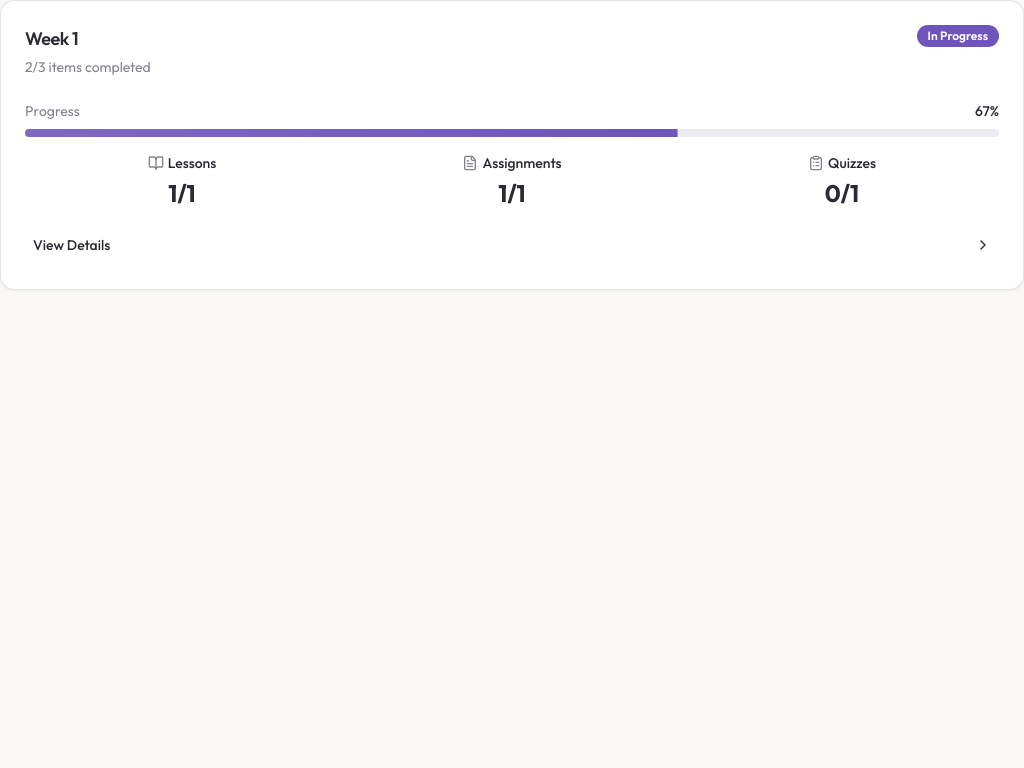
Test case: ModuleProgressCard (T-10 r2) › details: reads only eligible items and assessment rows by content_item_id; assessment status is separate from the checkmark
Step 1. Click the button "View Details" → (72,245), box [25,225,999,265]
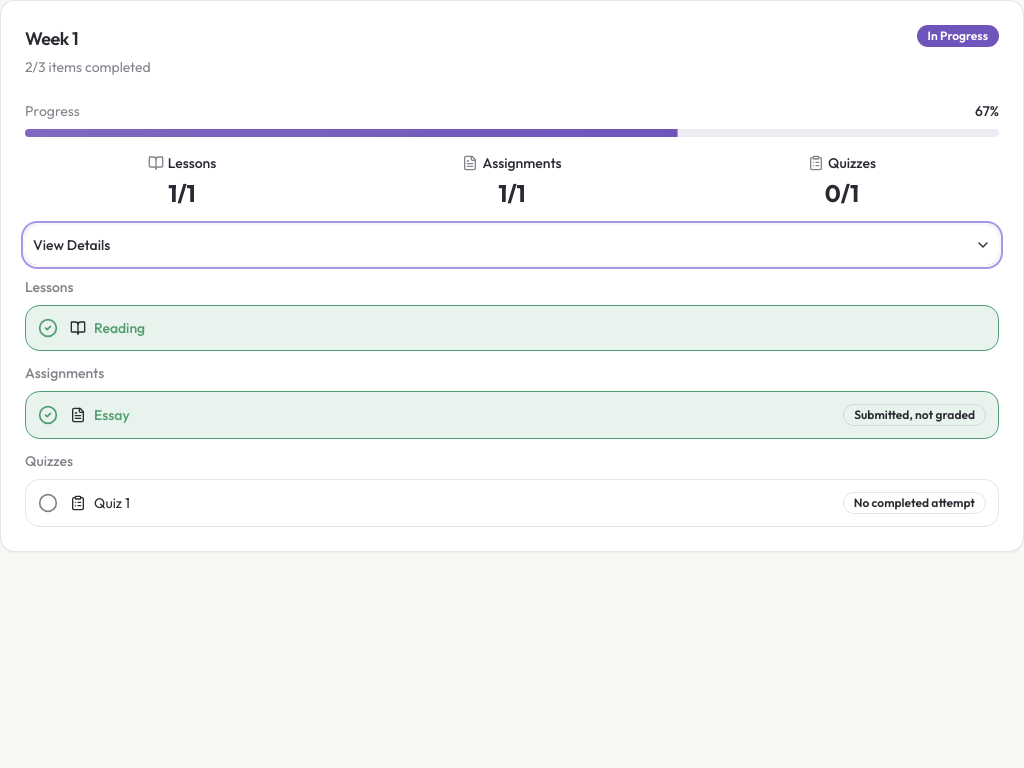
Expected: the text "2/3 items completed" is shown, [25,57,151,77]
Expected: the text with test id "assessment-a1" reads "Submitted, not graded", [854,407,975,422]
Expected: the text with test id "assessment-q1" reads "No completed attempt", [854,495,975,510]
